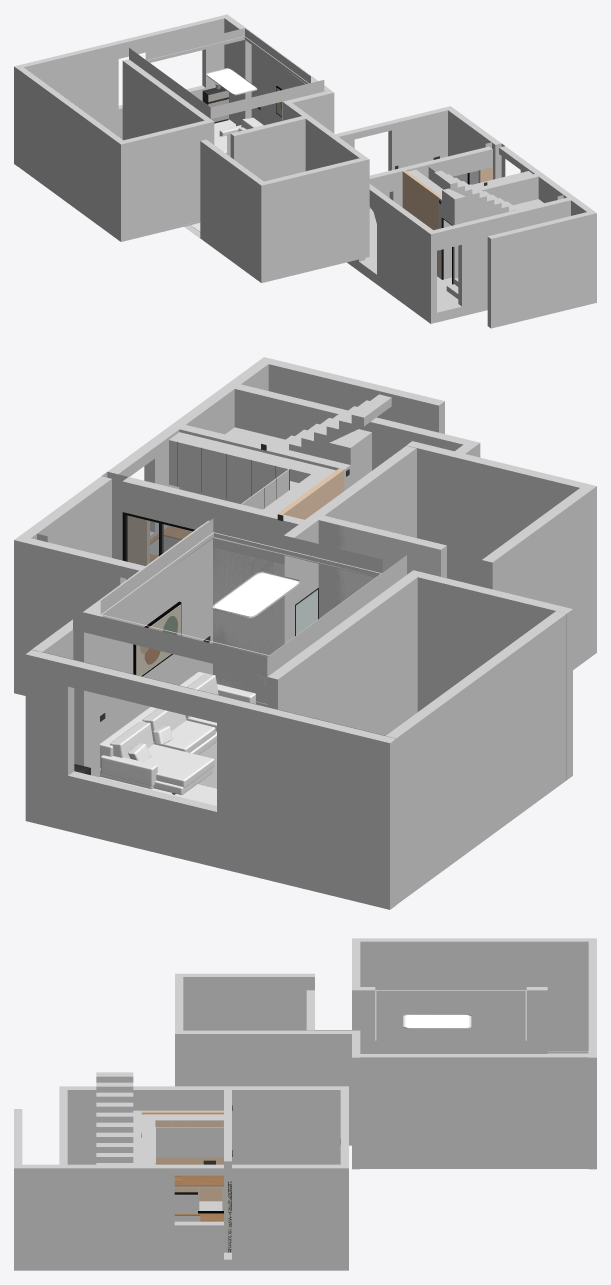
The model's file is section1.glb.
3 renders of one model, top to bottom at view 1: azimuth 30°, elevation 25°; view 2: azimuth 150°, elevation 25°; view 3: azimuth 270°, elevation 25°, orthographic. The views are drawn at different scales.
Parts seen in each view (by area): view 1: 二楼墙面, 10cm墙.005, 一楼Wall.006, 一楼Wall.005, 吊顶, 二楼墙, 一楼Wall.001, 800X800二楼墙面铺贴, 一楼Floor.001, 一楼Wall.004, 一楼Wall.002, 10cm墙.001 (+9 smaller); view 2: 二楼墙面, 二楼墙, 吊顶, 一楼Wall.001, 沙发, 1500*750二楼墙面铺贴, 一楼Wall.006, 10cm墙.005, 一楼Wall.004, 一楼Wall.002, 1200x600二楼墙面铺贴, 楼梯.002 (+16 smaller); view 3: 二楼墙面, 二楼墙, 一楼Wall.002, 一楼Wall.003, 1200x600二楼墙面铺贴, 一楼Wall.007, 一楼Wall.008, 10cm墙.005, 吊顶, 一楼Wall.005, 楼梯.002, 一楼Floor.001 (+13 smaller).
Part boxes in pixels (bbox=[...]): 二楼墙面: bbox=[14, 14, 369, 282]; 10cm墙.005: bbox=[487, 199, 596, 328]; 一楼Wall.006: bbox=[427, 196, 576, 313]; 一楼Wall.005: bbox=[369, 184, 432, 311]; 吊顶: bbox=[129, 28, 324, 118]; 二楼墙: bbox=[24, 45, 358, 181]; 一楼Wall.001: bbox=[335, 106, 453, 208]; 800X800二楼墙面铺贴: bbox=[111, 18, 301, 138]; 一楼Floor.001: bbox=[347, 209, 487, 323]; 一楼Wall.004: bbox=[357, 146, 492, 261]; 一楼Wall.002: bbox=[448, 109, 501, 184]; 10cm墙.001: bbox=[438, 174, 538, 279]; 二楼墙面: bbox=[25, 441, 596, 909]; 二楼墙: bbox=[42, 448, 579, 811]; 吊顶: bbox=[73, 518, 406, 676]; 一楼Wall.001: bbox=[14, 535, 145, 679]; 沙发: bbox=[100, 671, 255, 794]; 1500*750二楼墙面铺贴: bbox=[43, 524, 440, 702]; 一楼Wall.006: bbox=[224, 382, 480, 470]; 10cm墙.005: bbox=[230, 357, 444, 433]; 一楼Wall.004: bbox=[122, 477, 304, 565]; 一楼Wall.002: bbox=[20, 476, 111, 557]; 1200x600二楼墙面铺贴: bbox=[73, 630, 99, 777]; 楼梯.002: bbox=[273, 394, 391, 453]; 二楼墙面: bbox=[175, 938, 596, 1169]; 二楼墙: bbox=[183, 941, 588, 1053]; 一楼Wall.002: bbox=[232, 1164, 340, 1259]; 一楼Wall.003: bbox=[232, 1086, 340, 1164]; 1200x600二楼墙面铺贴: bbox=[315, 990, 547, 1040]; 一楼Wall.007: bbox=[67, 1164, 133, 1270]; 一楼Wall.008: bbox=[133, 1164, 223, 1259]; 10cm墙.005: bbox=[14, 1109, 59, 1270]; 吊顶: bbox=[360, 981, 547, 1053]; 一楼Wall.005: bbox=[67, 1086, 223, 1164]; 楼梯.002: bbox=[96, 1072, 133, 1164]; 一楼Floor.001: bbox=[133, 1213, 348, 1270].
Size of the model in its own units: 10.55 by 4.36 by 14.16.
36 materials, 2 textured.
